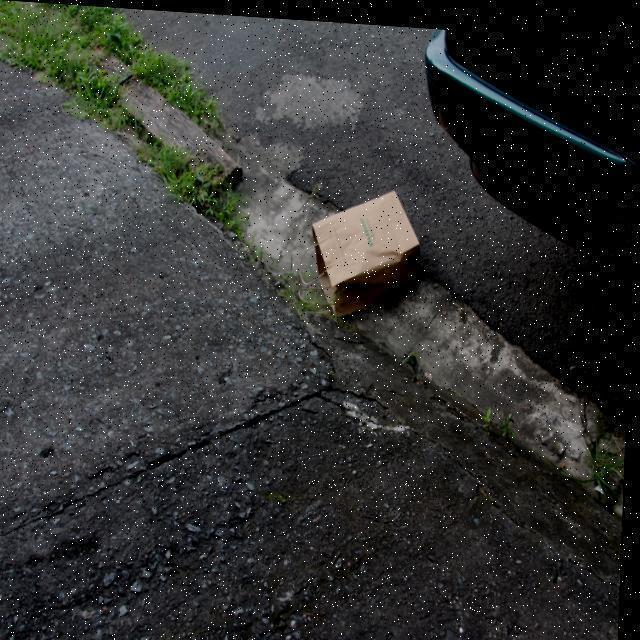Paper_Bag: (300, 180, 425, 320)
